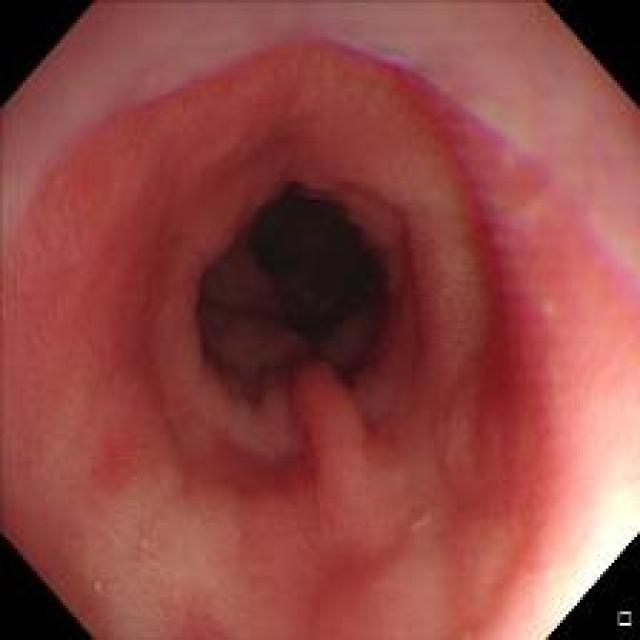blur: (452, 101, 618, 610)
color misalignment: (414, 78, 628, 460), (328, 36, 462, 108), (291, 176, 382, 241)
contrast: (200, 171, 426, 475)
saturation: (481, 440, 635, 625)
